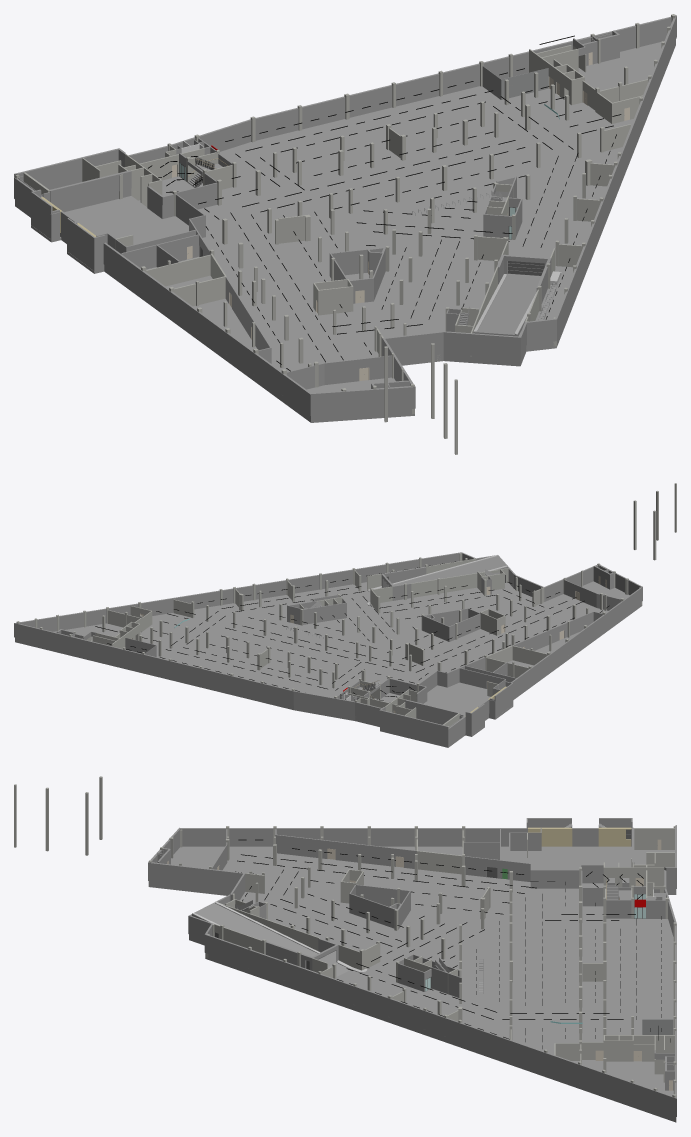
Rendered from Floor neg1.fbx.
3 renders of one model, top to bottom at view 1: azimuth 30°, elevation 25°; view 2: azimuth 150°, elevation 25°; view 3: azimuth 270°, elevation 25°, orthographic. The views are drawn at different scales.
Visible parts, largest first — view 1: IfcSlab/SLA_-_008.012, IfcSlab/SLA_-_008.017, IfcSlab/SLA_-_008.014, IfcSlab/SLA_-_008.013, IfcWallStandardCase/SW_-_043, IfcSlab/SLA_-_008.011, IfcSlab/SLA_-_008.015, IfcWallStandardCase/SW_-_044.003, IfcWallStandardCase/SW_-_050, IfcWallStandardCase/SW_-_047, IfcSlab/RT_-_005, IfcSlab/SLA_-_008.016 (+19 smaller); view 2: IfcSlab/SLA_-_008.012, IfcSlab/SLA_-_008.017, IfcWallStandardCase/SW_-_050, IfcWallStandardCase/SW_-_043, IfcSlab/SLA_-_008.013, IfcSlab/SLA_-_008.014, IfcSlab/SLA_-_008.011, IfcSlab/SLA_-_008.015, IfcWallStandardCase/SW_-_044.003, IfcWallStandardCase/SW_-_043.002, IfcWallStandardCase/SW_-_051, IfcWallStandardCase/SW_-_031.014 (+12 smaller); view 3: IfcSlab/SLA_-_008.012, IfcSlab/SLA_-_008.017, IfcWallStandardCase/SW_-_050, IfcSlab/SLA_-_008.014, IfcWallStandardCase/SW_-_044.003, IfcSlab/SLA_-_008.013, IfcSlab/SLA_-_008.015, IfcSlab/SLA_-_008.011, IfcWallStandardCase/SW_-_031.014, IfcWallStandardCase/SW_-_048, IfcSlab/RT_-_005, IfcSlab/SLA_-_008.016 (+18 smaller).
Part boxes in pixels (<box>): IfcSlab/SLA_-_008.012: <box>252,86,568,242</box>; IfcSlab/SLA_-_008.017: <box>157,242,556,422</box>; IfcSlab/SLA_-_008.014: <box>164,142,405,263</box>; IfcSlab/SLA_-_008.013: <box>406,111,618,347</box>; IfcWallStandardCase/SW_-_043: <box>250,15,676,140</box>; IfcSlab/SLA_-_008.011: <box>509,40,675,189</box>; IfcSlab/SLA_-_008.015: <box>15,179,264,309</box>; IfcWallStandardCase/SW_-_044.003: <box>103,242,311,415</box>; IfcWallStandardCase/SW_-_050: <box>555,15,676,340</box>; IfcWallStandardCase/SW_-_047: <box>310,386,415,415</box>; IfcSlab/RT_-_005: <box>473,274,540,336</box>; IfcSlab/SLA_-_008.016: <box>206,222,316,276</box>; IfcSlab/SLA_-_008.012: <box>141,609,378,710</box>; IfcSlab/SLA_-_008.017: <box>379,581,642,678</box>; IfcWallStandardCase/SW_-_050: <box>15,552,461,631</box>; IfcWallStandardCase/SW_-_043: <box>14,623,293,705</box>; IfcSlab/SLA_-_008.013: <box>163,582,425,650</box>; IfcSlab/SLA_-_008.014: <box>294,635,436,720</box>; IfcSlab/SLA_-_008.011: <box>15,604,228,672</box>; IfcSlab/SLA_-_008.015: <box>357,657,541,747</box>; IfcWallStandardCase/SW_-_044.003: <box>511,587,642,695</box>; IfcWallStandardCase/SW_-_043.002: <box>379,710,448,742</box>; IfcWallStandardCase/SW_-_051: <box>411,568,508,597</box>; IfcWallStandardCase/SW_-_031.014: <box>512,611,593,650</box>; IfcSlab/SLA_-_008.012: <box>437,942,673,1037</box>; IfcSlab/SLA_-_008.017: <box>148,846,437,949</box>; IfcWallStandardCase/SW_-_050: <box>204,934,676,1116</box>; IfcSlab/SLA_-_008.014: <box>437,891,673,947</box>; IfcWallStandardCase/SW_-_044.003: <box>180,828,527,846</box>; IfcSlab/SLA_-_008.013: <box>205,947,603,1043</box>; IfcSlab/SLA_-_008.015: <box>437,846,676,896</box>; IfcSlab/SLA_-_008.011: <box>450,1037,676,1122</box>; IfcWallStandardCase/SW_-_031.014: <box>275,834,416,868</box>; IfcWallStandardCase/SW_-_048: <box>148,862,244,890</box>; IfcSlab/RT_-_005: <box>192,902,349,976</box>; IfcSlab/SLA_-_008.016: <box>437,888,582,910</box>.
Size of the model in its own units: 11893 by 1858 by 12116.
